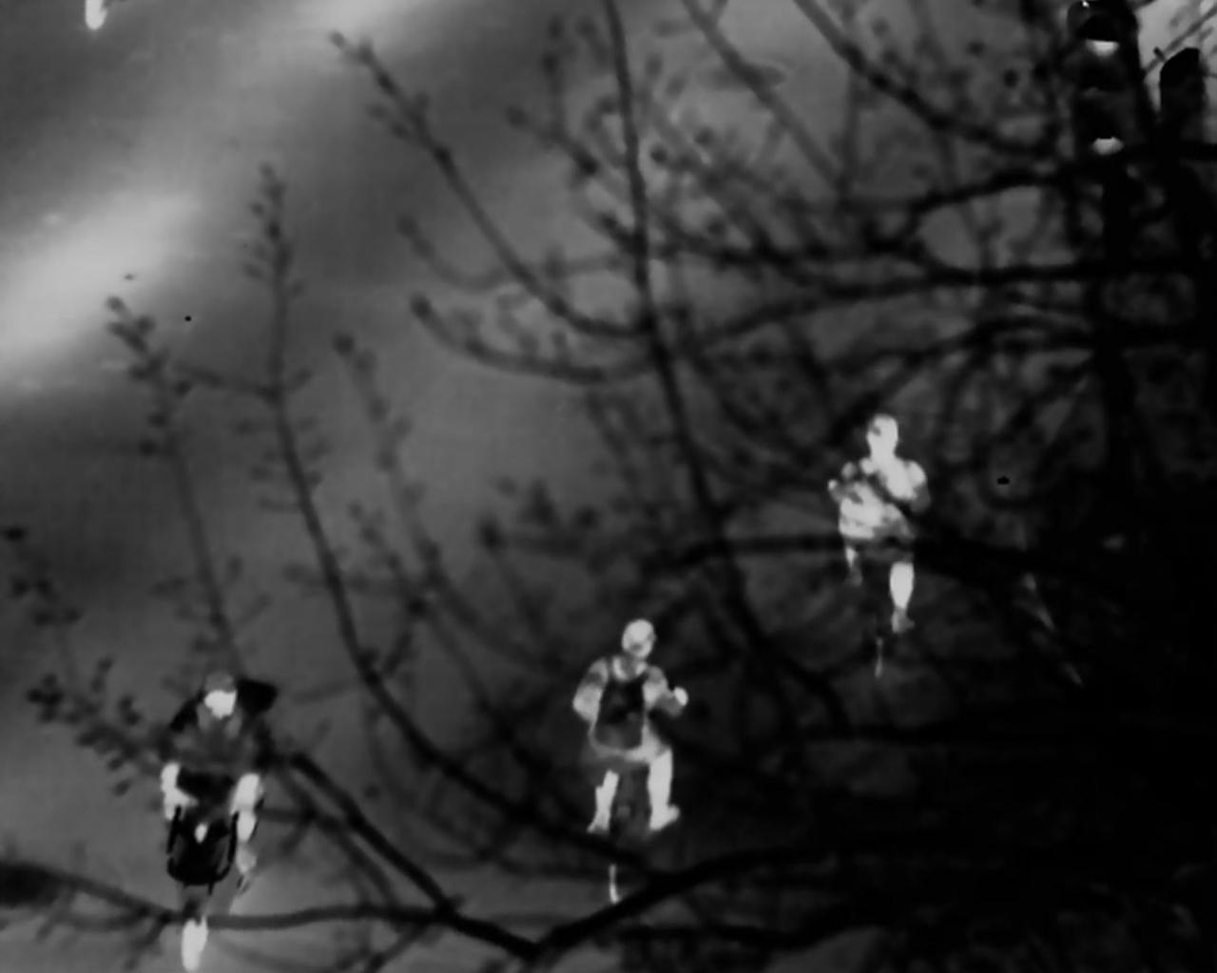person: (571, 620, 692, 831), (164, 670, 267, 914), (837, 408, 931, 658)
